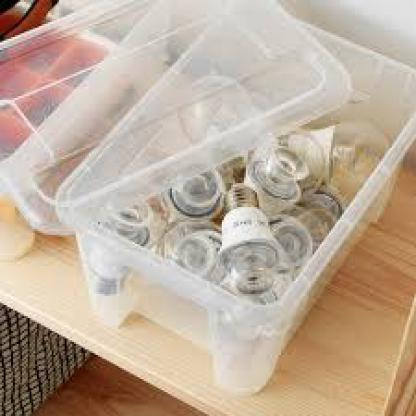plastic_box: (6, 2, 414, 394)
